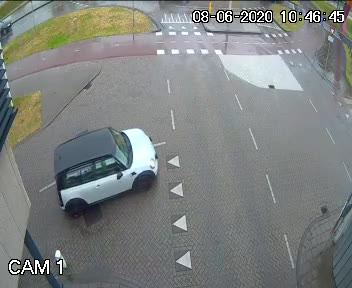car: (27, 103, 181, 224)
